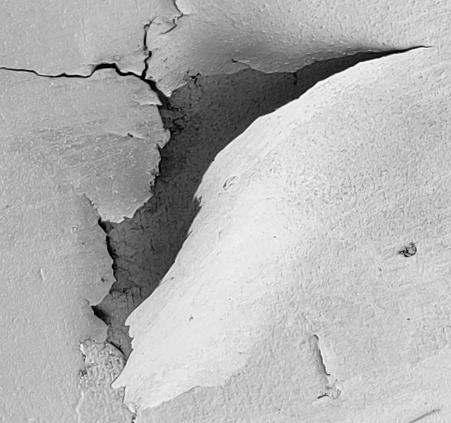paint-off: (1, 0, 451, 423)
